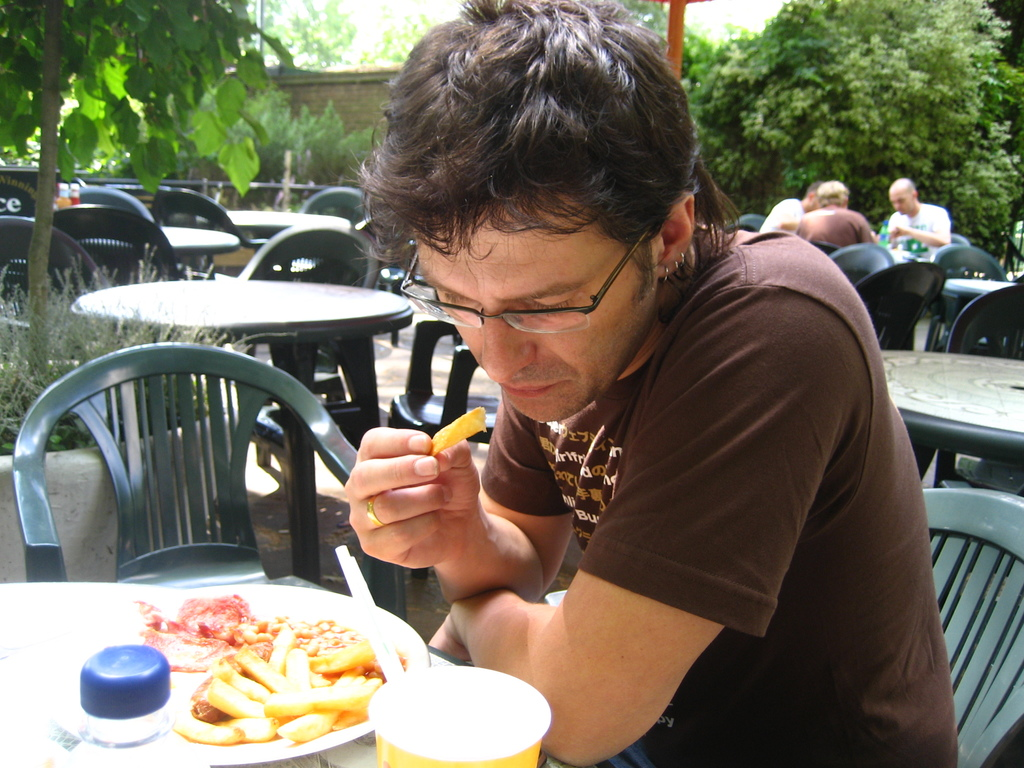French fries: (129, 617, 391, 758), (424, 404, 486, 457)
